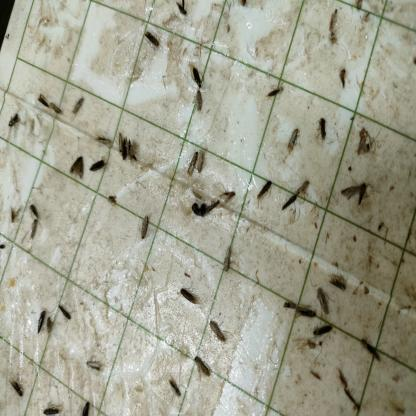prays_oleae: (262, 72, 286, 107), (359, 334, 384, 366), (280, 125, 304, 153), (66, 158, 88, 186), (208, 317, 228, 347), (328, 269, 349, 297), (292, 175, 312, 204), (296, 296, 316, 325), (176, 284, 198, 310), (310, 288, 332, 314), (86, 153, 109, 177), (191, 353, 212, 379), (6, 103, 24, 132), (84, 351, 103, 376), (219, 245, 234, 276), (252, 179, 272, 202), (66, 95, 86, 116), (280, 190, 295, 218), (315, 116, 329, 146), (6, 376, 25, 398), (57, 300, 76, 322), (182, 150, 199, 174), (144, 28, 160, 53), (137, 214, 155, 236), (96, 131, 112, 155), (32, 308, 48, 331), (188, 65, 204, 87), (314, 321, 336, 337), (206, 195, 220, 220), (220, 187, 238, 206), (165, 377, 182, 397), (49, 97, 64, 119), (196, 145, 207, 175), (356, 180, 368, 207), (36, 92, 50, 115), (340, 386, 354, 408), (283, 293, 295, 318), (328, 6, 340, 30), (336, 66, 349, 87), (127, 131, 136, 160), (26, 222, 42, 238), (334, 364, 348, 382), (193, 92, 204, 114), (28, 201, 41, 219), (115, 132, 124, 154), (39, 404, 63, 412), (79, 400, 93, 412), (106, 191, 118, 205), (121, 134, 127, 161)
